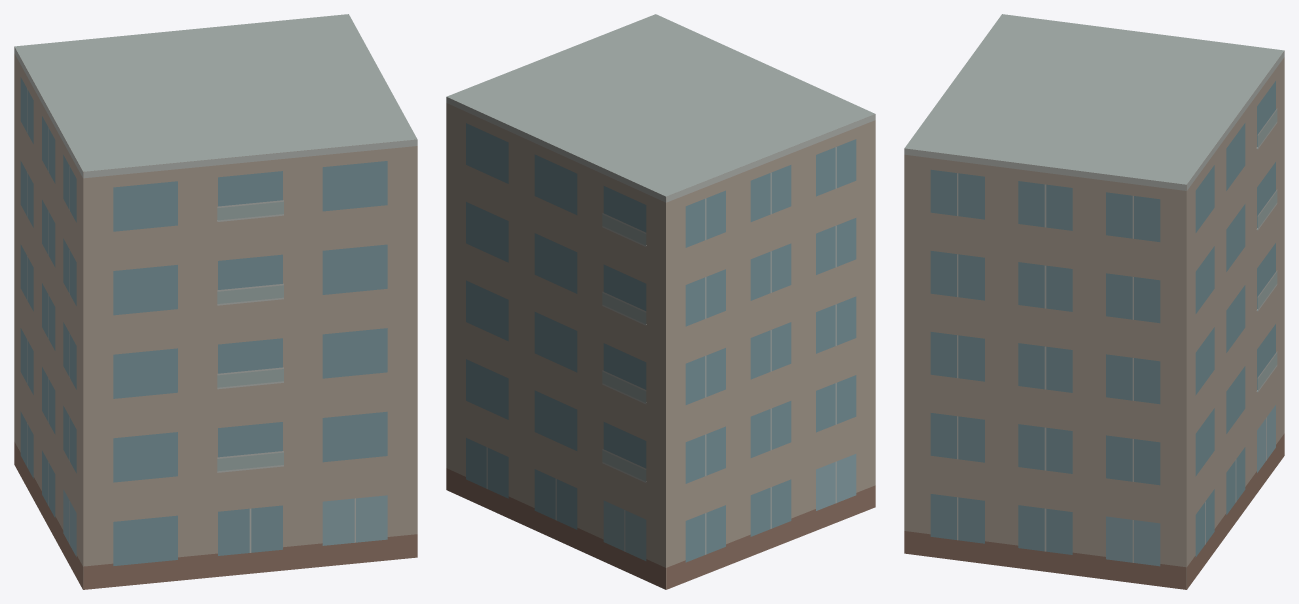
Rendered from survey-upis-32885259.glb.
3 views of the same model, side by side, from view 1: azimuth 30°, elevation 25°; view 2: azimuth 150°, elevation 25°; view 3: azimuth 270°, elevation 25° (orthographic). The views are drawn at different scales.
Visible parts, largest first — view 1: survey-upis-32885259.tmp; view 2: survey-upis-32885259.tmp; view 3: survey-upis-32885259.tmp.
Part boxes in pixels (x1,y1,x2,y2): survey-upis-32885259.tmp: (14,14,417,589); survey-upis-32885259.tmp: (446,14,875,589); survey-upis-32885259.tmp: (904,14,1284,589).
Size of the model in its own units: 14.16 by 15.66 by 13.33.
